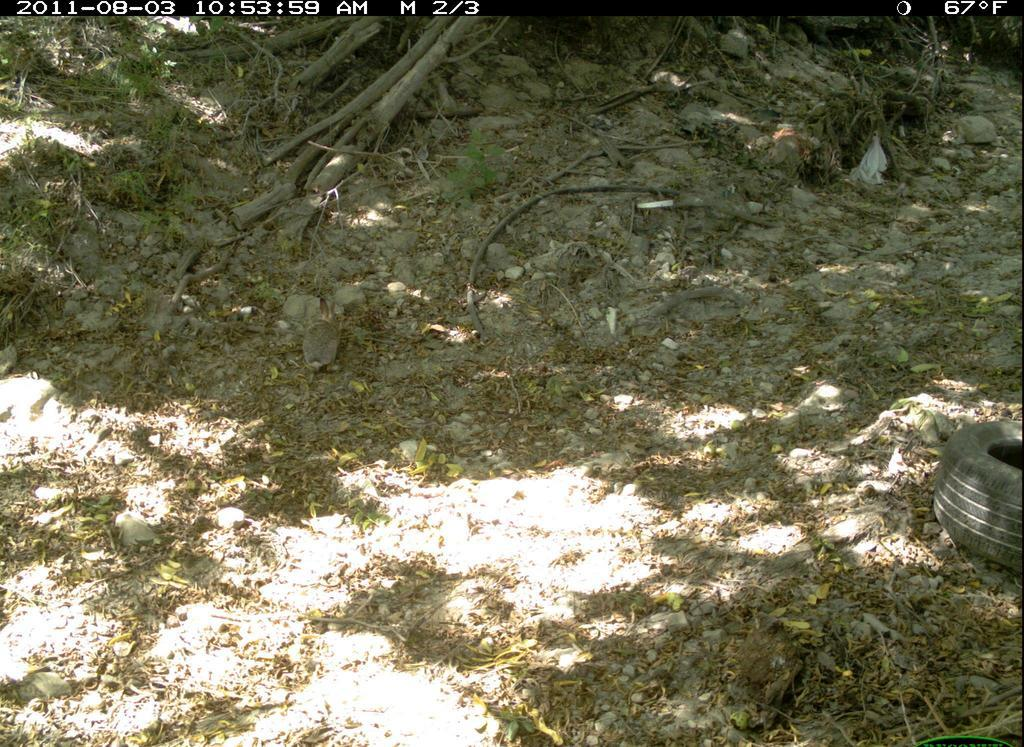rabbit: (291, 292, 347, 383)
